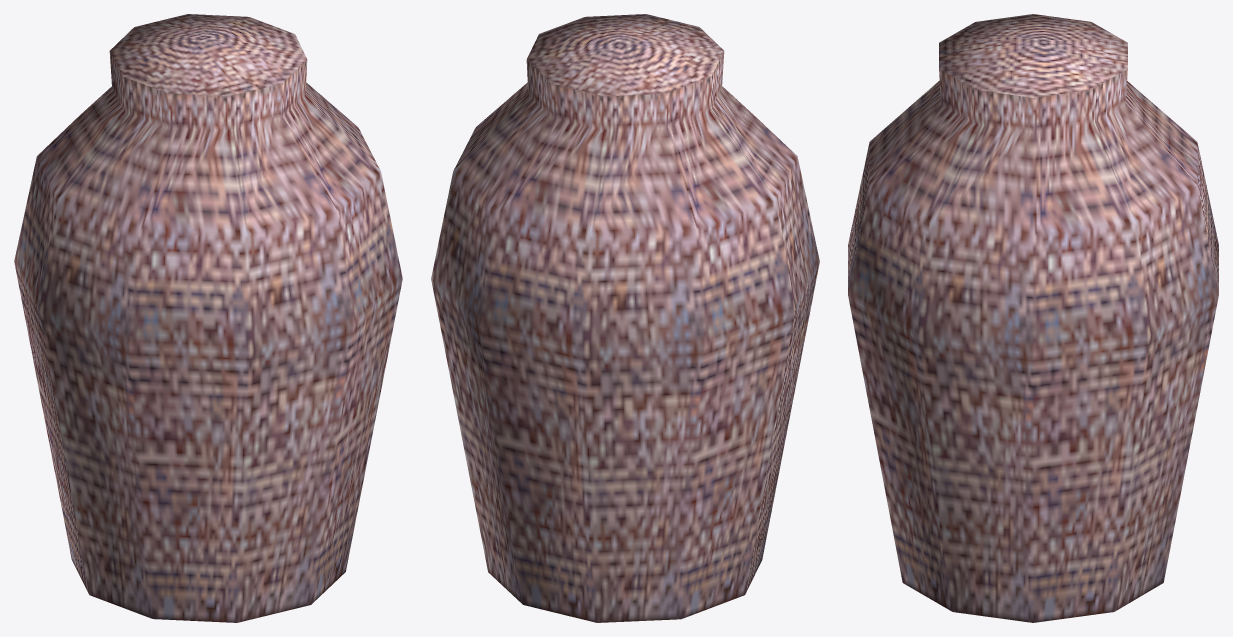
Rendered from Basket04.glb.
3 views of the same model, side by side, from view 1: azimuth 30°, elevation 25°; view 2: azimuth 150°, elevation 25°; view 3: azimuth 270°, elevation 25° (orthographic).
Parts seen in each view (by area): view 1: BASKET04; view 2: BASKET04; view 3: BASKET04.
Part boxes in pixels (x1,y1,x2,y2): BASKET04: [14, 14, 402, 622]; BASKET04: [431, 14, 819, 622]; BASKET04: [848, 14, 1218, 622].
Size of the model in its own units: 0.6 by 0.891 by 0.571.
1 material, 1 textured.
